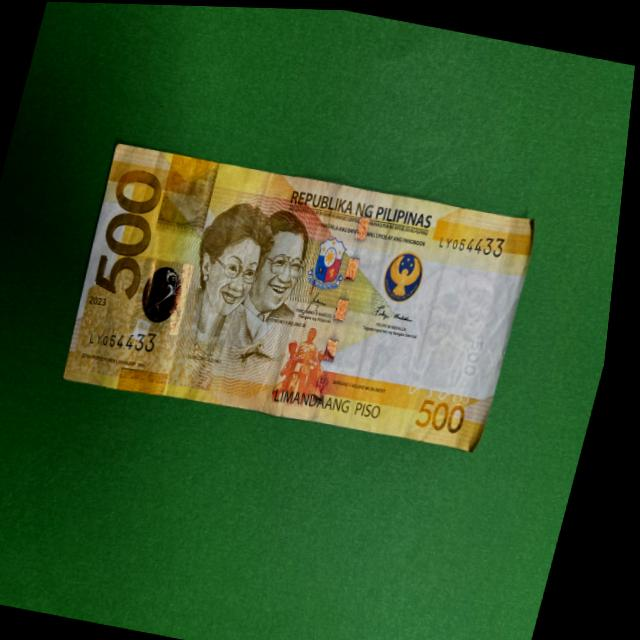concealed_value: (160, 151, 226, 232)
security_thread: (310, 181, 389, 420)
see_through_mark: (413, 373, 486, 405)
serial_number: (437, 221, 519, 268), (90, 322, 167, 359)
value: (88, 159, 176, 305)
value_watermark: (461, 316, 498, 382)
watermark: (417, 261, 522, 388)
